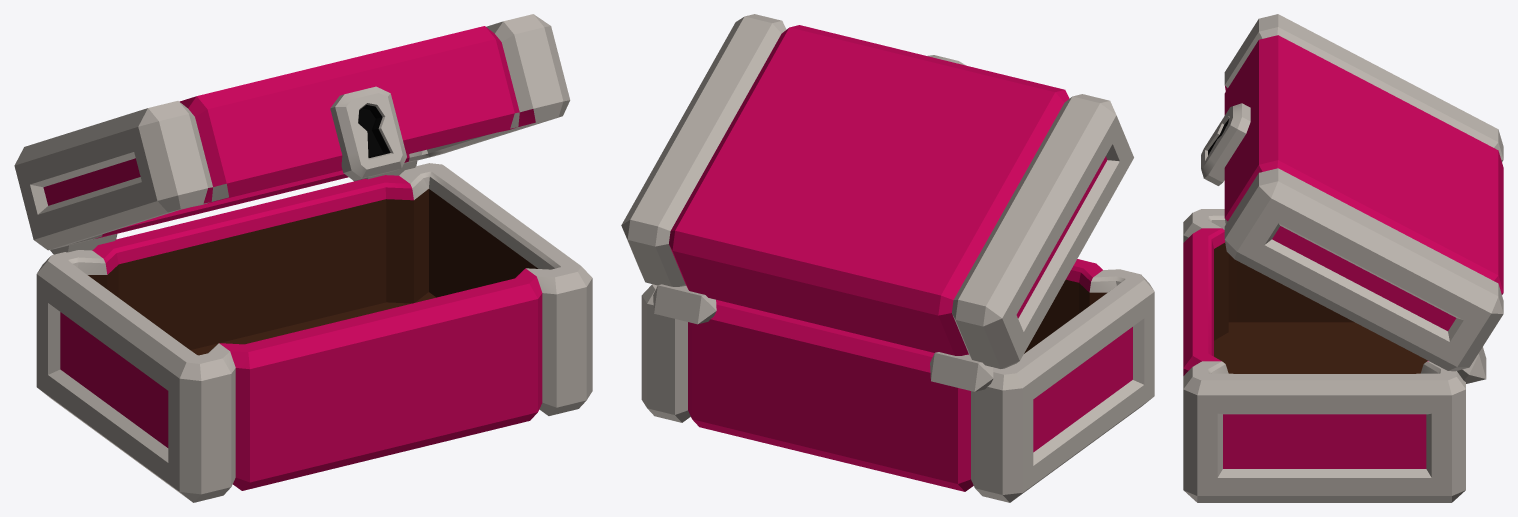
The model's file is m_dec_dung_chestLargeB_open.fbx.
3 views of the same model, side by side, from view 1: azimuth 30°, elevation 25°; view 2: azimuth 150°, elevation 25°; view 3: azimuth 270°, elevation 25° (orthographic). The views are drawn at different scales.
Parts seen in each view (by area): view 1: m_dec_dung_chestLargeB_open; view 2: m_dec_dung_chestLargeB_open; view 3: m_dec_dung_chestLargeB_open.
Boxes of the visible parts, x1,y1,x2,y2 form: m_dec_dung_chestLargeB_open: [14, 14, 592, 502]; m_dec_dung_chestLargeB_open: [621, 14, 1154, 502]; m_dec_dung_chestLargeB_open: [1183, 14, 1503, 502].
Size of the model in its own units: 3 by 2.51 by 2.27.
